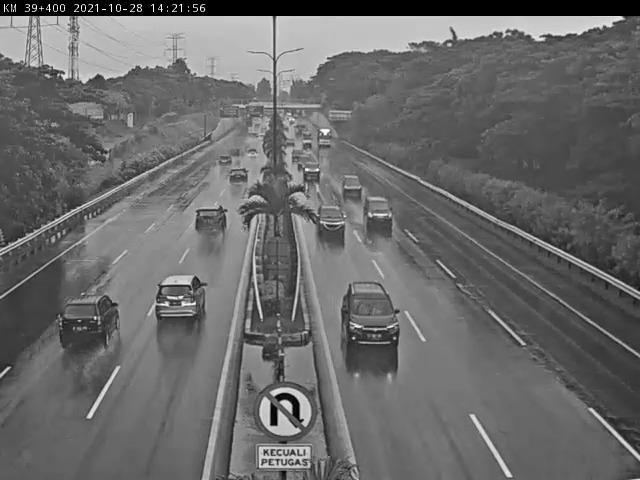car: (343, 281, 401, 350), (55, 292, 120, 348), (154, 273, 209, 323), (315, 204, 347, 239), (362, 195, 393, 231), (193, 204, 229, 234), (340, 173, 365, 197), (303, 162, 324, 183), (229, 165, 249, 183), (217, 152, 234, 167), (292, 147, 306, 164)
